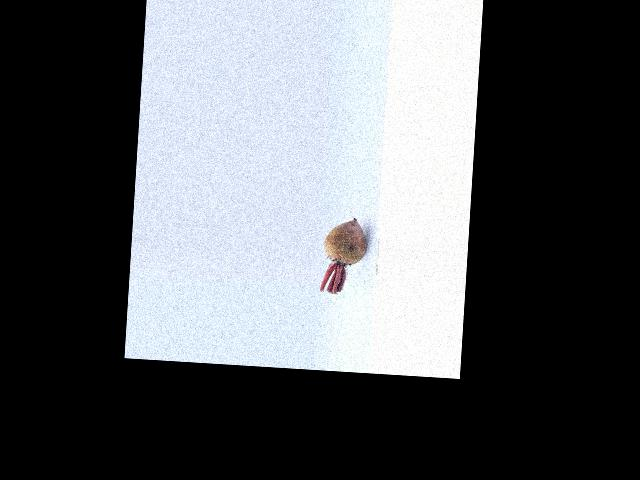beet: (320, 217, 367, 294)
